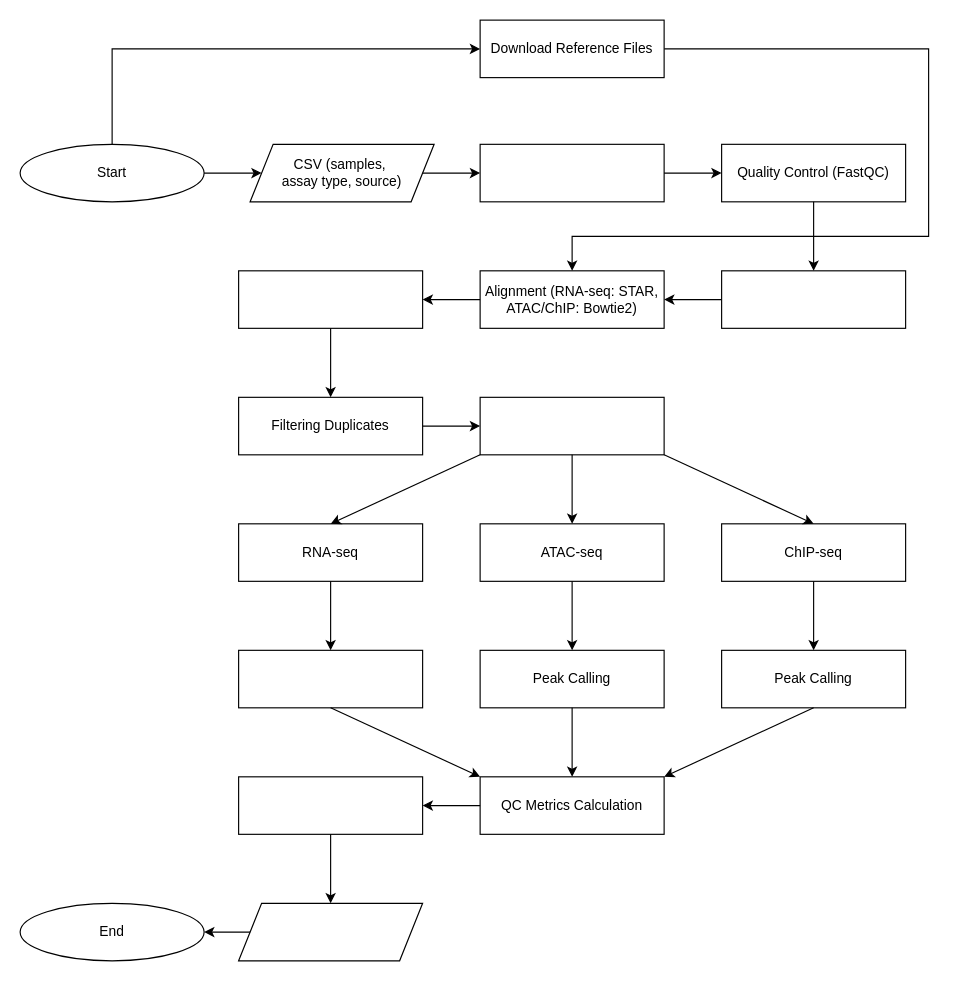
This 958x981 diagram has some shape labels left out. The centre of each missing label's shape, as x and y in pixels:
"Filtering Blacklist" belongs at (571,425).
"Filtering MAPQ" belongs at (330,299).
"Input Handling (SRA download / local FASTQ)" belongs at (571,172).
"MultiQC" belongs at (330,805).
"Output Results" belongs at (330,931).
"Quantification" belongs at (330,678).
"Trimming (fastp)" belongs at (813,299).
